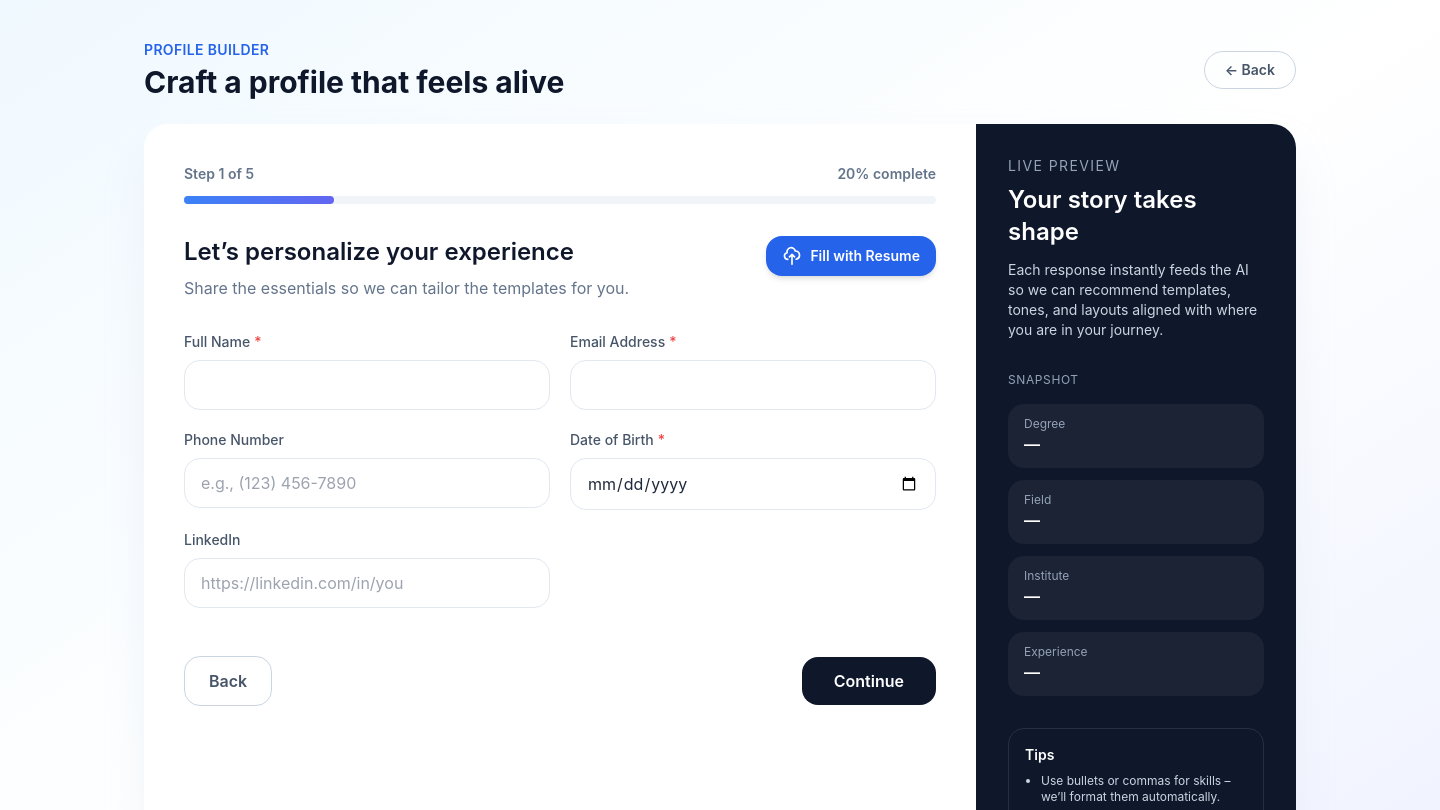
Scenario: ProfileForm Component - Comprehensive Test Suite › TC-FRONT-002: Should show validation errors for required fields
Step 1. Click the button "Continue" → (869, 681), box [802,657,936,705]
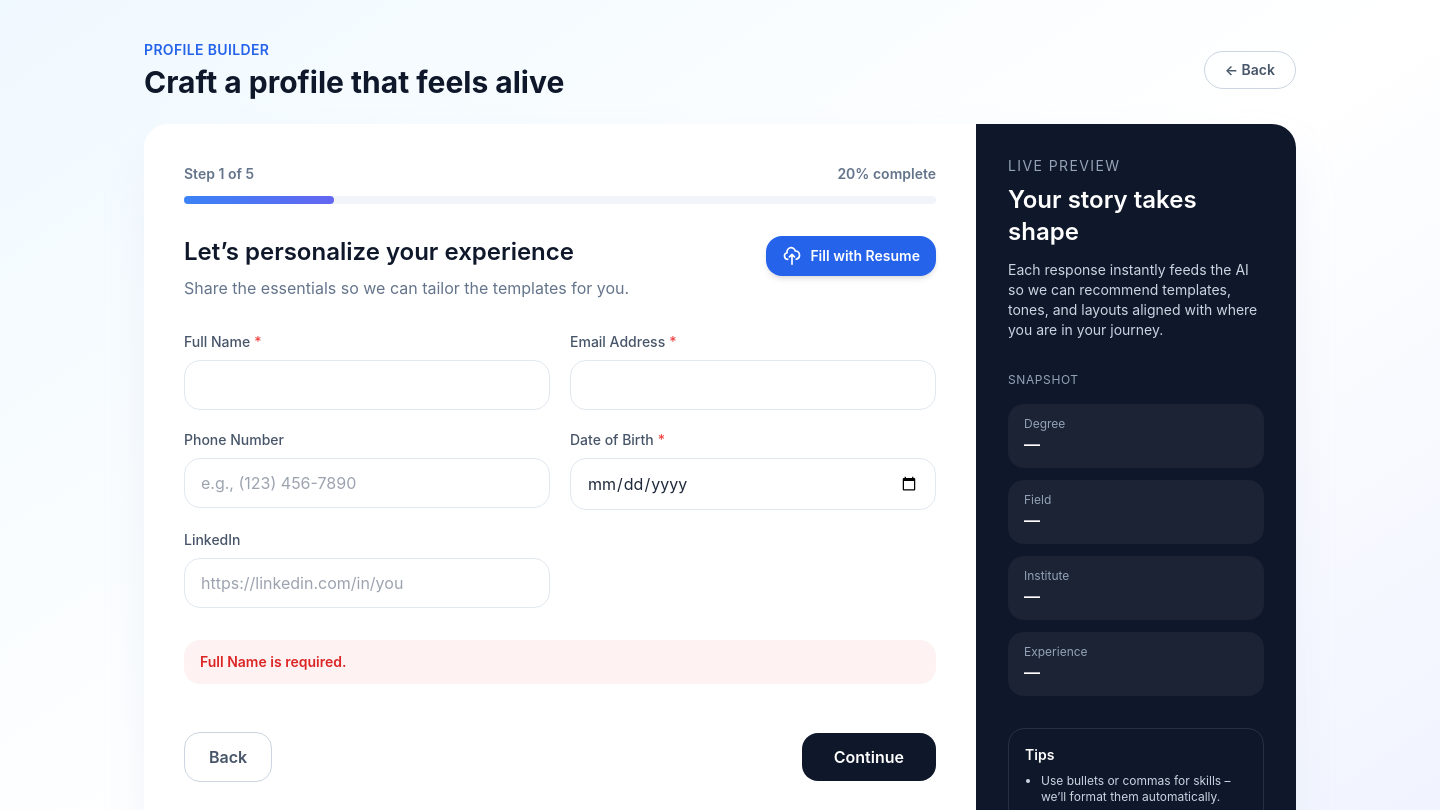
Now the text "Full Name is required." is shown, box [184,640,936,684]
